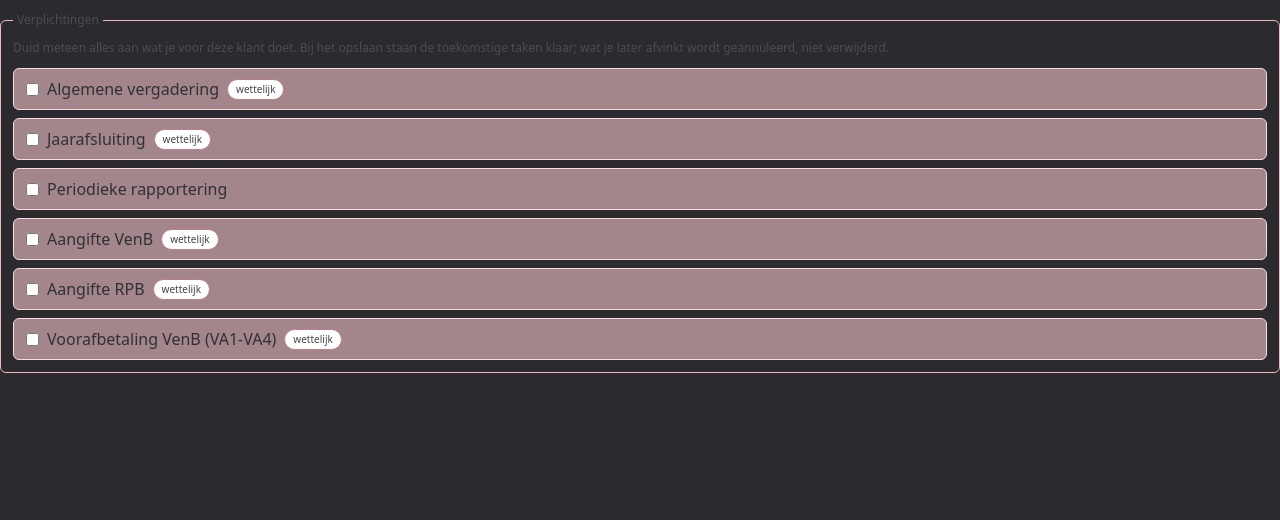
Scenario: ObligationPicker — de jaarafsluiting voor de algemene vergadering › komt terug op de doorlooptijd bij het terugschakelen
Click the checkbox labelled "Jaarafsluiting wettelijk". click: (32, 139)
box: 26,132 -> 39,146
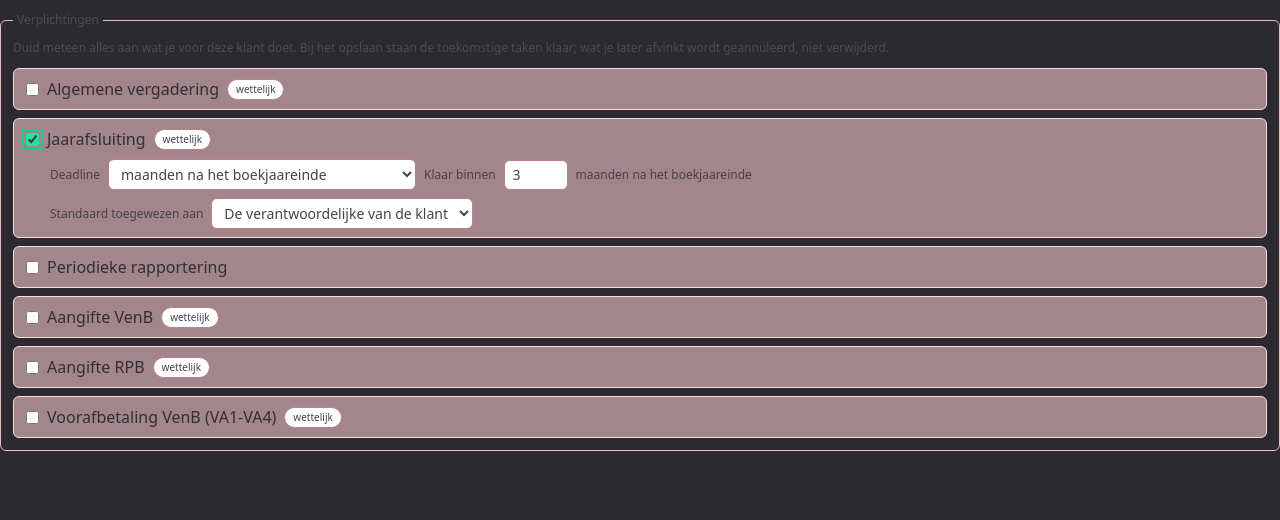
Select "maanden voor de algemene vergadering" in the dropdown named "Deadline jaarafsluiting". click: (262, 174)
box: 108,159 -> 416,190
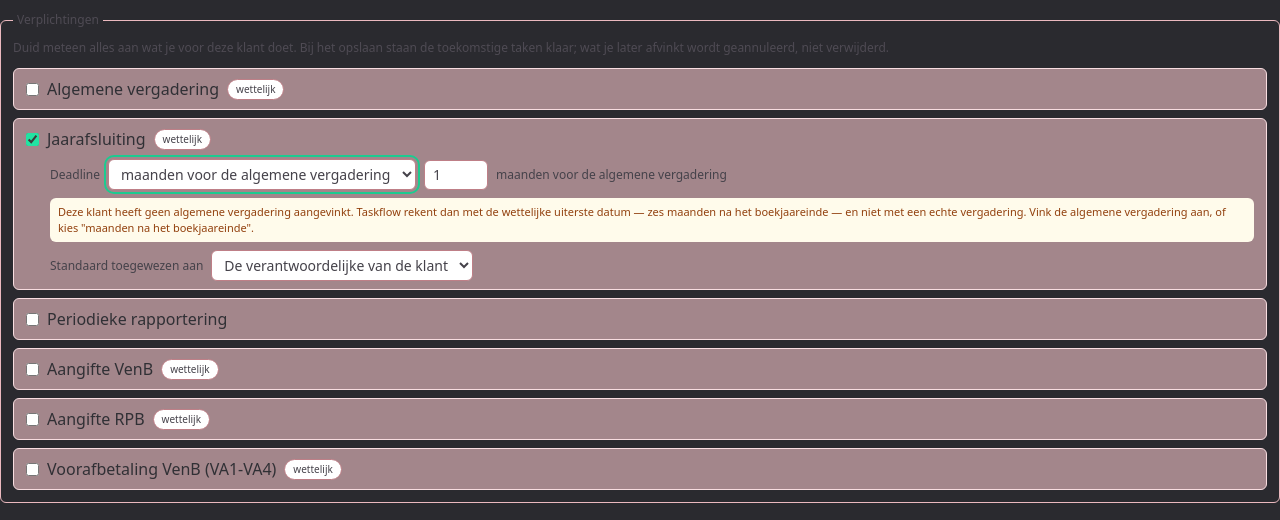
Select "maanden na het boekjaareinde" in the dropdown named "Deadline jaarafsluiting". click: (262, 174)
box: 108,159 -> 416,190
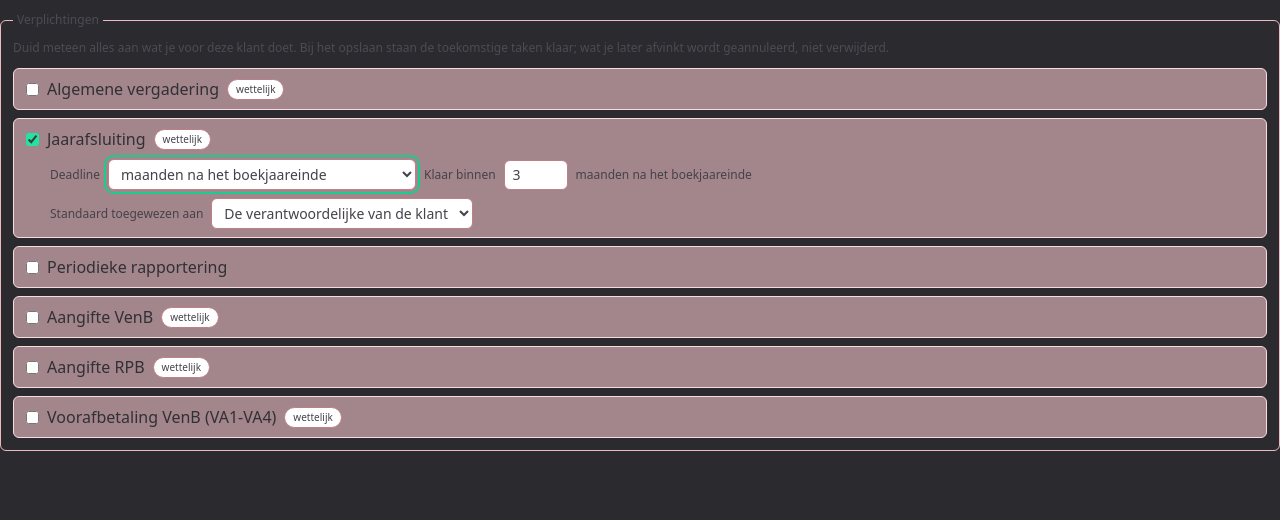
Expected: the label labelled "maanden voor de algemene vergadering" is gone
